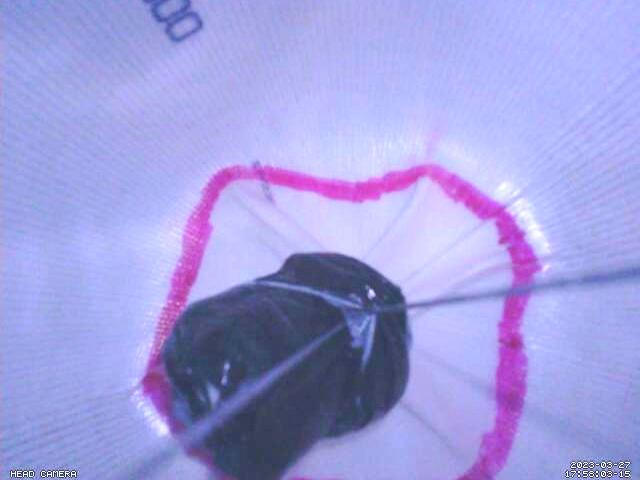red-circle: (136, 162, 543, 480)
